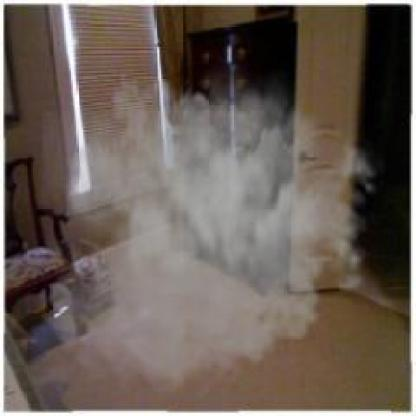Smoke: (43, 48, 389, 404)
